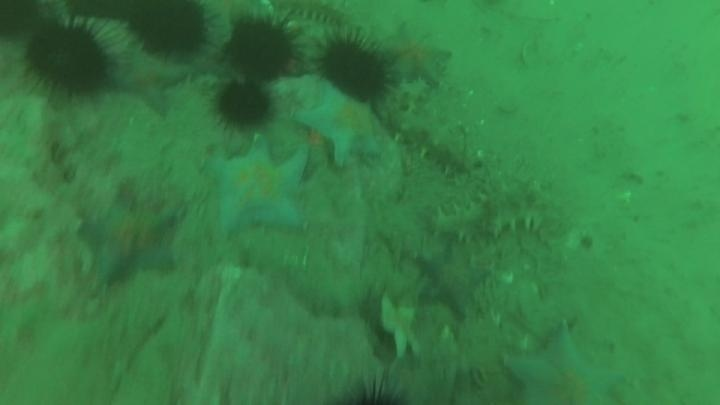echinus: (23, 19, 114, 99), (316, 32, 393, 103), (124, 2, 212, 59), (225, 16, 299, 82), (213, 78, 274, 131), (332, 374, 413, 405), (1, 1, 43, 41)
holothurian: (426, 178, 564, 246), (386, 104, 476, 178), (378, 75, 435, 117), (273, 1, 353, 30)
starfish: (202, 136, 313, 238), (502, 320, 626, 404), (78, 196, 182, 288), (292, 86, 386, 169), (414, 243, 490, 319), (111, 45, 188, 117), (376, 22, 453, 89)
